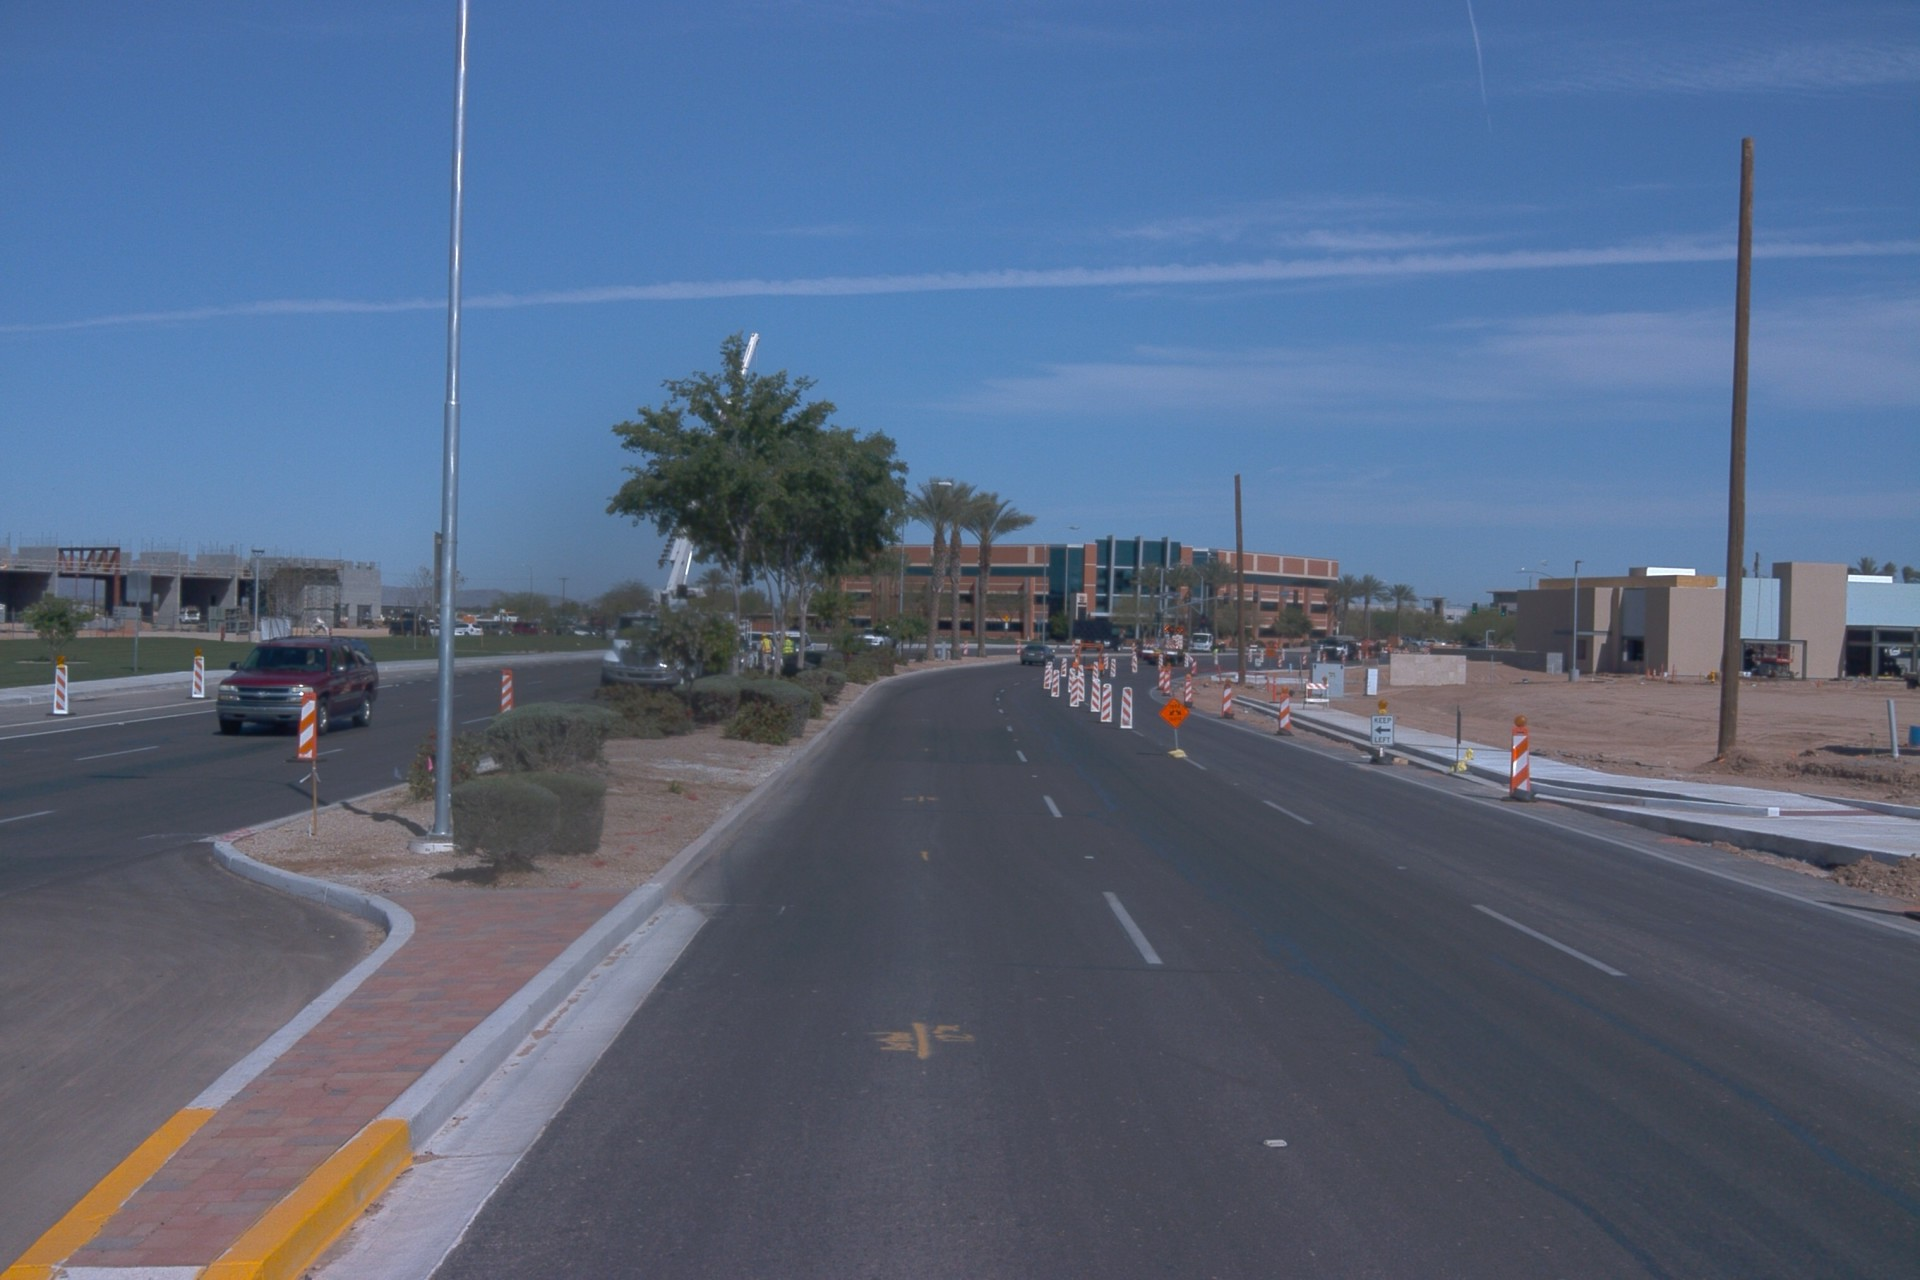TYPE_PEDESTRIAN: (760, 632, 775, 675), (781, 632, 797, 655), (1212, 643, 1221, 664)
TYPE_VEHICLE: (578, 323, 772, 719), (206, 628, 381, 745), (727, 574, 828, 681), (1068, 615, 1117, 687), (1134, 620, 1191, 666), (1317, 637, 1387, 666), (776, 625, 817, 666), (729, 629, 760, 681), (1071, 625, 1121, 656), (851, 623, 902, 652), (743, 629, 775, 675), (386, 615, 432, 641), (509, 617, 562, 639), (1189, 628, 1229, 655), (1018, 644, 1056, 668), (428, 616, 465, 640), (478, 620, 516, 640), (388, 614, 434, 630), (1902, 660, 1920, 698), (451, 621, 483, 638), (740, 613, 754, 651), (176, 605, 200, 626), (1310, 637, 1329, 652), (1136, 642, 1149, 659)
